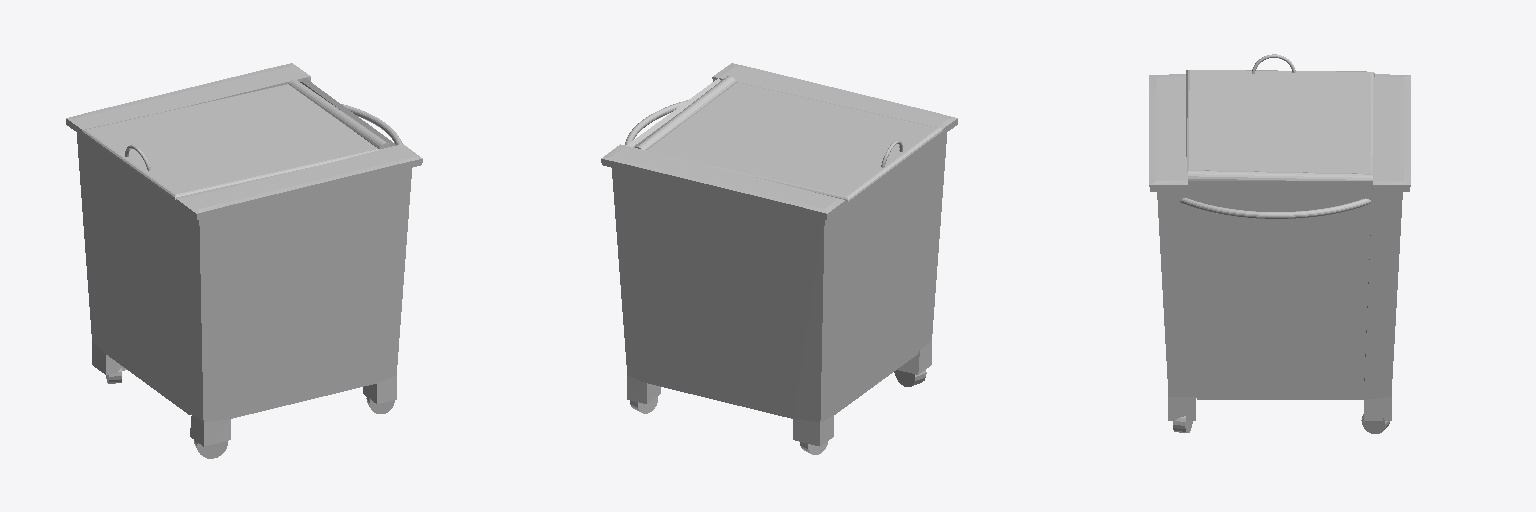
File: uploads_files_3162514_trash+can+clean-obj.obj
3 views of the same model, side by side, from view 1: azimuth 30°, elevation 25°; view 2: azimuth 150°, elevation 25°; view 3: azimuth 270°, elevation 25° (orthographic).
Parts seen in each view (by area): view 1: TRASH_CAN2 TRASH_CAN3, TRASH_CAN3 DOOR1; view 2: TRASH_CAN2 TRASH_CAN3, TRASH_CAN3 DOOR1; view 3: TRASH_CAN2 TRASH_CAN3, TRASH_CAN3 DOOR1.
Boxes of the visible parts, x1,y1,x2,y2 form: TRASH_CAN2 TRASH_CAN3: [66, 63, 422, 446]; TRASH_CAN3 DOOR1: [81, 79, 390, 199]; TRASH_CAN2 TRASH_CAN3: [601, 63, 957, 446]; TRASH_CAN3 DOOR1: [635, 76, 942, 201]; TRASH_CAN2 TRASH_CAN3: [1149, 74, 1410, 420]; TRASH_CAN3 DOOR1: [1186, 54, 1374, 180].
Bounding box in the file's own units: 8.33 × 8.79 × 7.36.